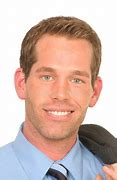person: (14, 15, 103, 140)
